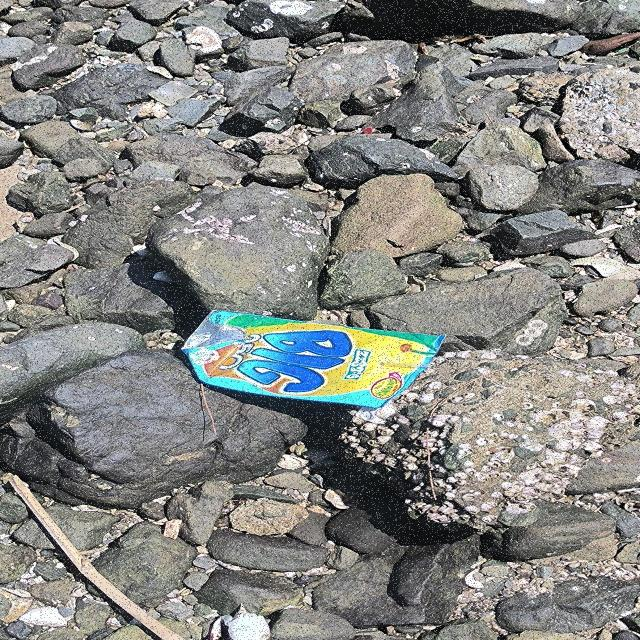plastic_waste: (181, 309, 448, 410)
